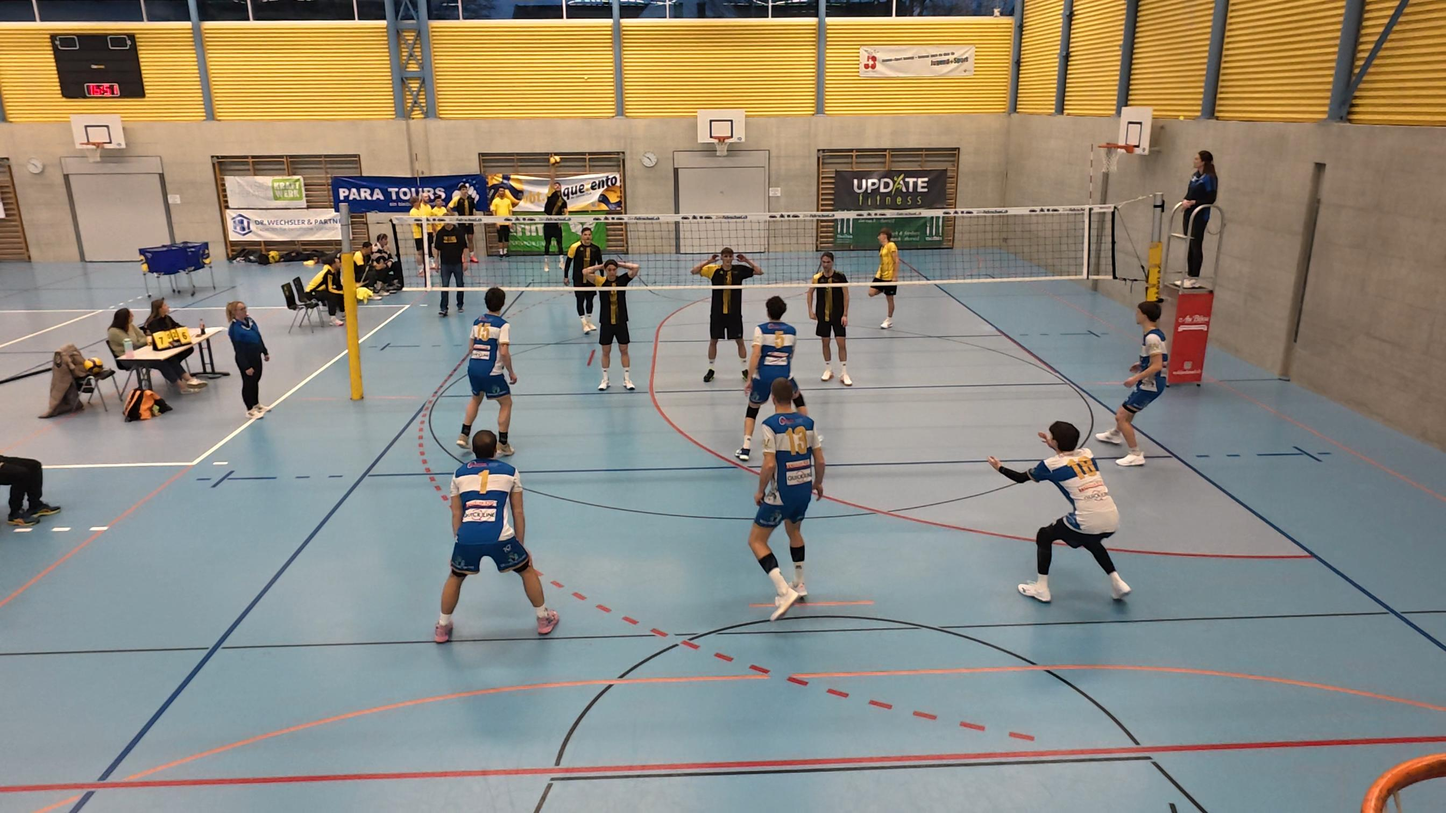battuta: (533, 155, 570, 276)
